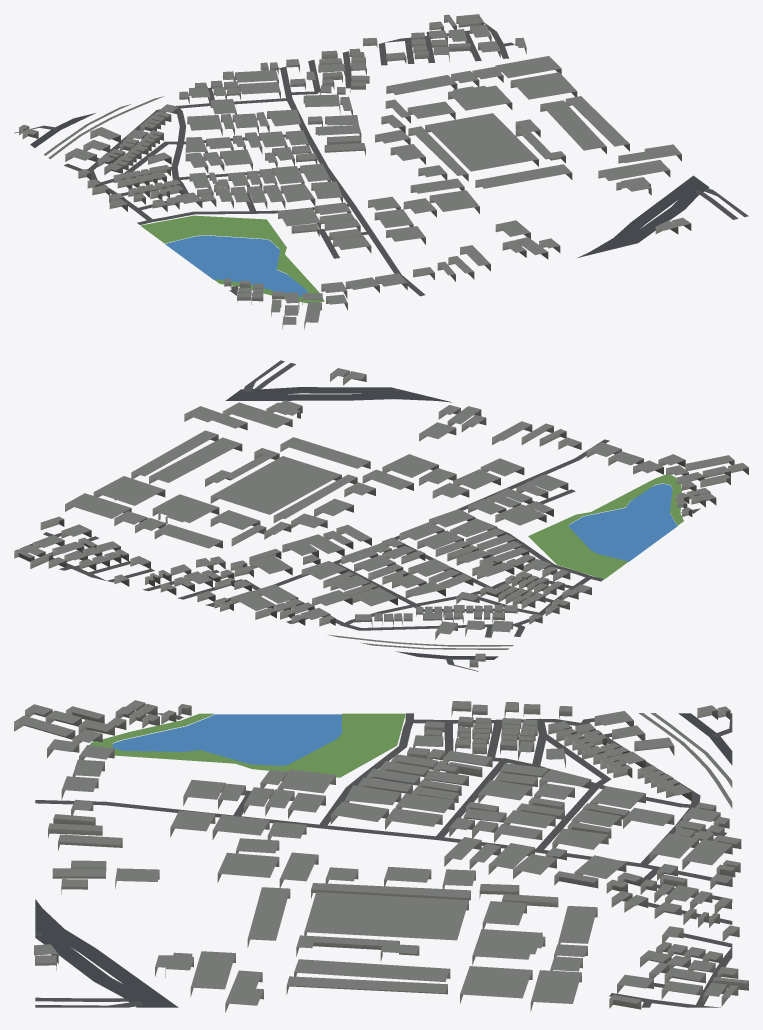
3 views of the same model, one above another, from view 1: azimuth 30°, elevation 25°; view 2: azimuth 150°, elevation 25°; view 3: azimuth 270°, elevation 25° (orthographic). The views are drawn at different scales.
Parts seen in each view (by area): view 1: building, ground, water; view 2: building, ground, water; view 3: building, ground, water.
Part boxes in pixels (bbox=[...]): building: bbox=[19, 14, 691, 329]; ground: bbox=[14, 22, 748, 303]; water: bbox=[165, 235, 307, 296]; building: bbox=[14, 368, 748, 667]; ground: bbox=[29, 360, 700, 671]; water: bbox=[569, 483, 677, 561]; building: bbox=[14, 700, 748, 1012]; ground: bbox=[35, 713, 732, 1007]; water: bbox=[112, 714, 342, 765].
Size of the model in its own units: 519 by 8 by 527.
